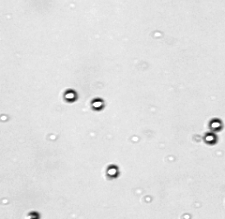Living Cell: (90, 97, 105, 110), (63, 90, 78, 102), (106, 165, 119, 178), (209, 119, 223, 131), (204, 132, 216, 144)
